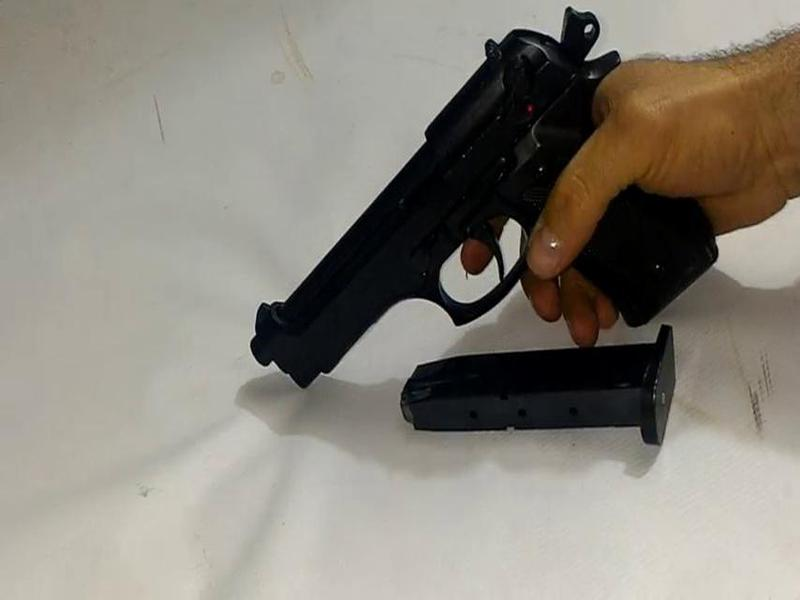Pistola: (236, 8, 727, 386)
